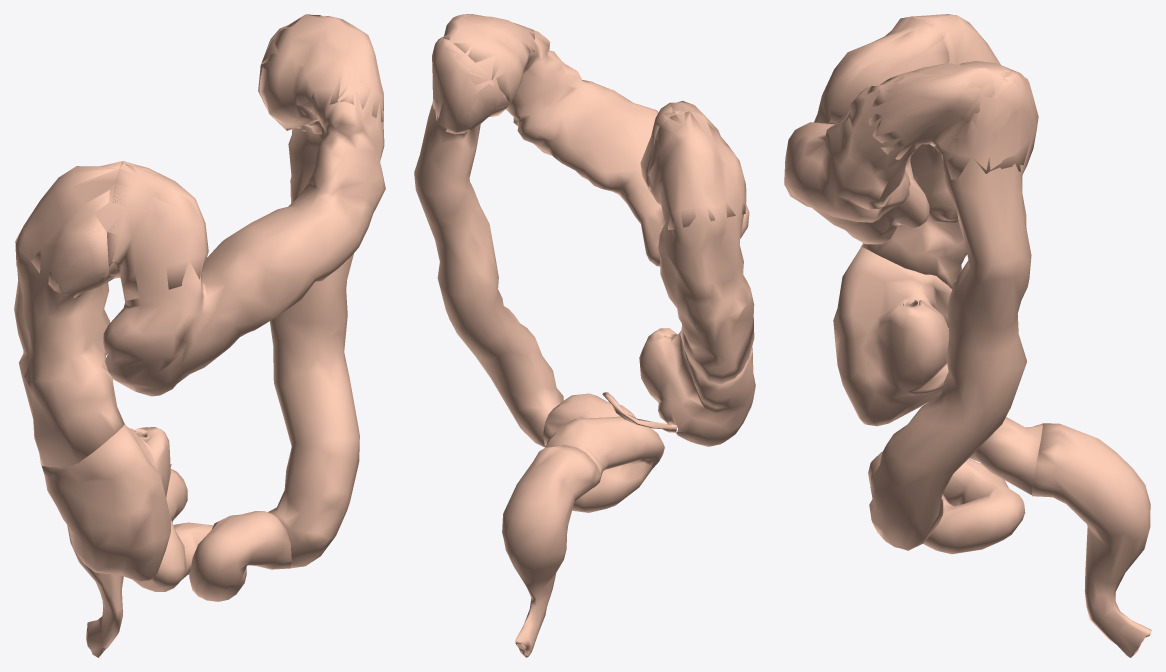
The model's file is sbu_m_intestine_large-40.glb.
3 views of the same model, side by side, from view 1: azimuth 30°, elevation 25°; view 2: azimuth 150°, elevation 25°; view 3: azimuth 270°, elevation 25° (orthographic). The views are drawn at different scales.
Visible parts, largest first — view 1: VH_M_transverse_colon, VH_M_ascending_colon, VH_M_descending_colon, VH_M_caecum, VH_M_hepatic_flexure_of_colon, VH_M_sigmoid_colon, VH_M_splenic_flexure_of_colon, VH_M_rectum; view 2: VH_M_descending_colon, VH_M_transverse_colon, VH_M_ascending_colon, VH_M_rectum, VH_M_caecum, VH_M_sigmoid_colon, VH_M_splenic_flexure_of_colon, VH_M_hepatic_flexure_of_colon, VH_M_vermiform_appendix; view 3: VH_M_descending_colon, VH_M_transverse_colon, VH_M_caecum, VH_M_rectum, VH_M_sigmoid_colon, VH_M_splenic_flexure_of_colon, VH_M_ascending_colon, VH_M_hepatic_flexure_of_colon.
Boxes of the visible parts, left/top/right/bottom form: VH_M_transverse_colon: left=103, top=14, right=385, bottom=396; VH_M_ascending_colon: left=14, top=161, right=124, bottom=468; VH_M_descending_colon: left=259, top=14, right=359, bottom=568; VH_M_caecum: left=42, top=423, right=170, bottom=582; VH_M_hepatic_flexure_of_colon: left=15, top=161, right=208, bottom=300; VH_M_sigmoid_colon: left=133, top=469, right=291, bottom=601; VH_M_splenic_flexure_of_colon: left=258, top=14, right=383, bottom=134; VH_M_rectum: left=67, top=525, right=123, bottom=657; VH_M_descending_colon: left=414, top=38, right=563, bottom=447; VH_M_transverse_colon: left=443, top=14, right=749, bottom=266; VH_M_ascending_colon: left=648, top=111, right=754, bottom=384; VH_M_rectum: left=502, top=445, right=600, bottom=657; VH_M_caecum: left=639, top=328, right=755, bottom=446; VH_M_sigmoid_colon: left=543, top=393, right=664, bottom=512; VH_M_splenic_flexure_of_colon: left=432, top=14, right=534, bottom=134; VH_M_hepatic_flexure_of_colon: left=640, top=101, right=745, bottom=229; VH_M_vermiform_appendix: left=602, top=392, right=677, bottom=432; VH_M_descending_colon: left=869, top=70, right=1038, bottom=550; VH_M_transverse_colon: left=784, top=16, right=1012, bottom=244; VH_M_caecum: left=833, top=247, right=952, bottom=426; VH_M_rectum: left=1032, top=423, right=1151, bottom=657; VH_M_sigmoid_colon: left=868, top=417, right=1042, bottom=554; VH_M_splenic_flexure_of_colon: left=867, top=61, right=1038, bottom=179; VH_M_ascending_colon: left=861, top=14, right=995, bottom=289; VH_M_hepatic_flexure_of_colon: left=819, top=15, right=1000, bottom=123.
Bounding box in the file's own units: 0.2592 × 0.4506 × 0.2247.
